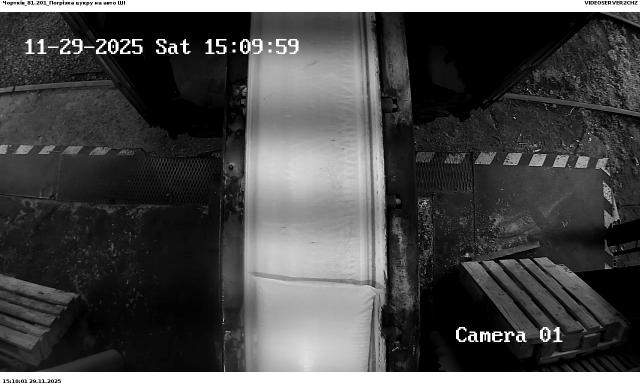bag: (255, 277, 379, 371)
